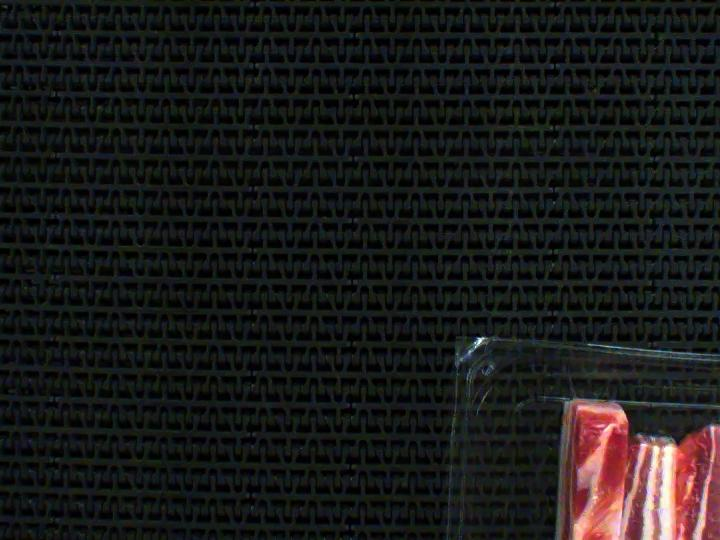twisted-meat: (551, 395, 633, 540)
